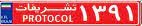character: (90, 3, 107, 23), (107, 3, 123, 23), (123, 3, 137, 23), (78, 4, 90, 26)
